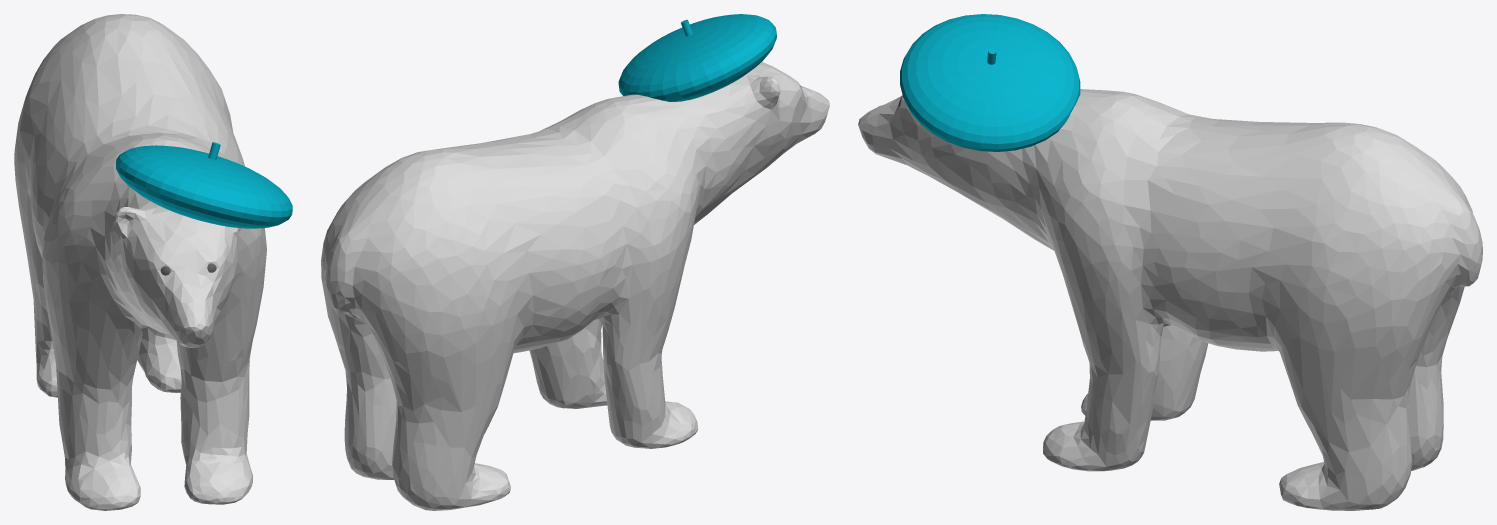
File: asset.glb
3 renders of one model, left to right at view 1: azimuth 30°, elevation 25°; view 2: azimuth 150°, elevation 25°; view 3: azimuth 270°, elevation 25°, orthographic. The views are drawn at different scales.
Parts seen in each view (by area): view 1: Mesh_Mesh_head_geo.001_lambert2SG.001; view 2: Mesh_Mesh_head_geo.001_lambert2SG.001; view 3: Mesh_Mesh_head_geo.001_lambert2SG.001.
Part boxes in pixels (x1,y1,x2,y2): Mesh_Mesh_head_geo.001_lambert2SG.001: [14, 14, 292, 510]; Mesh_Mesh_head_geo.001_lambert2SG.001: [321, 14, 829, 510]; Mesh_Mesh_head_geo.001_lambert2SG.001: [858, 14, 1482, 510].
Bounding box in the file's own units: 58.83 × 75.56 × 110.
